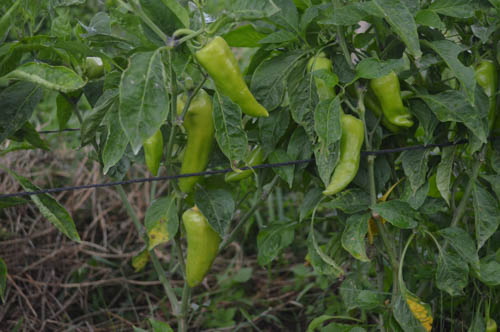ChiliPepper: (200, 39, 267, 118), (171, 98, 212, 191), (324, 117, 367, 196), (181, 210, 216, 286), (372, 70, 410, 126), (304, 55, 337, 111), (471, 64, 494, 131), (142, 136, 164, 177)
